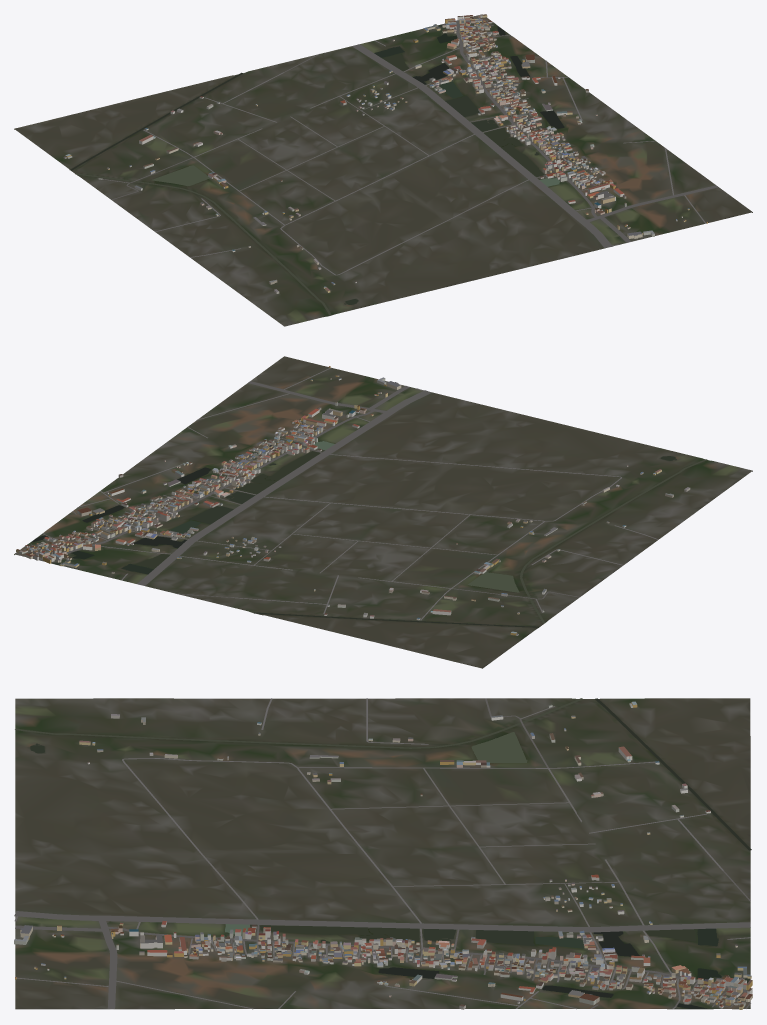
3 views of the same model, one above another, from view 1: azimuth 30°, elevation 25°; view 2: azimuth 150°, elevation 25°; view 3: azimuth 270°, elevation 25° (orthographic). The views are drawn at different scales.
Parts seen in each view (by area): view 1: ground, buildings, roads, water; view 2: ground, buildings, roads, water; view 3: ground, buildings, roads, water.
Part boxes in pixels (box(x1,y1,x2,y2)): ground: box(14, 14, 752, 326); buildings: box(63, 14, 707, 293); roads: box(98, 16, 718, 275); water: box(70, 23, 564, 315); ground: box(14, 356, 752, 668); buildings: box(16, 366, 690, 635); roads: box(15, 367, 658, 620); water: box(31, 441, 707, 627); ground: box(15, 698, 750, 1009); buildings: box(14, 701, 752, 1009); roads: box(14, 698, 750, 1009); water: box(15, 698, 751, 1008).
Size of the model in its own units: 1408 by 23.21 by 1409.
